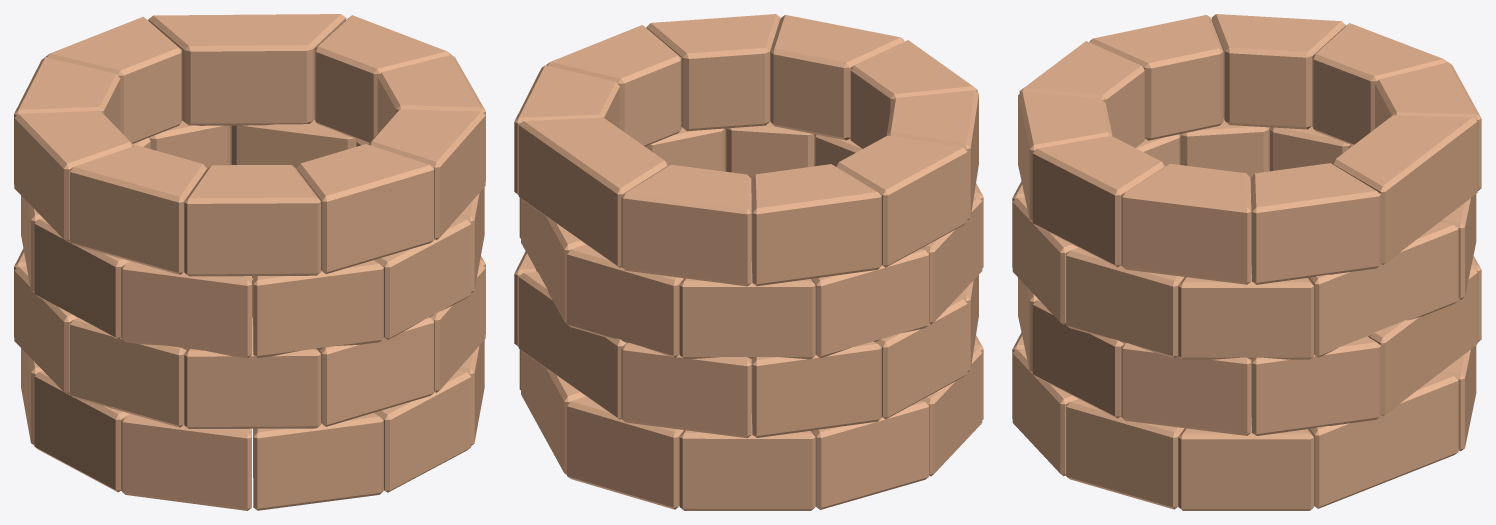
Rendered from AGPwellBevelled.fbx.
3 renders of one model, left to right at view 1: azimuth 30°, elevation 25°; view 2: azimuth 150°, elevation 25°; view 3: azimuth 270°, elevation 25°, orthographic.
Parts seen in each view (by area): view 1: Cube.035; view 2: Cube.035; view 3: Cube.035.
Boxes of the visible parts, left/top/right/bottom form: Cube.035: left=14, top=14, right=485, bottom=510; Cube.035: left=514, top=14, right=983, bottom=510; Cube.035: left=1012, top=14, right=1481, bottom=510.
Bounding box in the file's own units: 1551 × 1129 × 1559.
